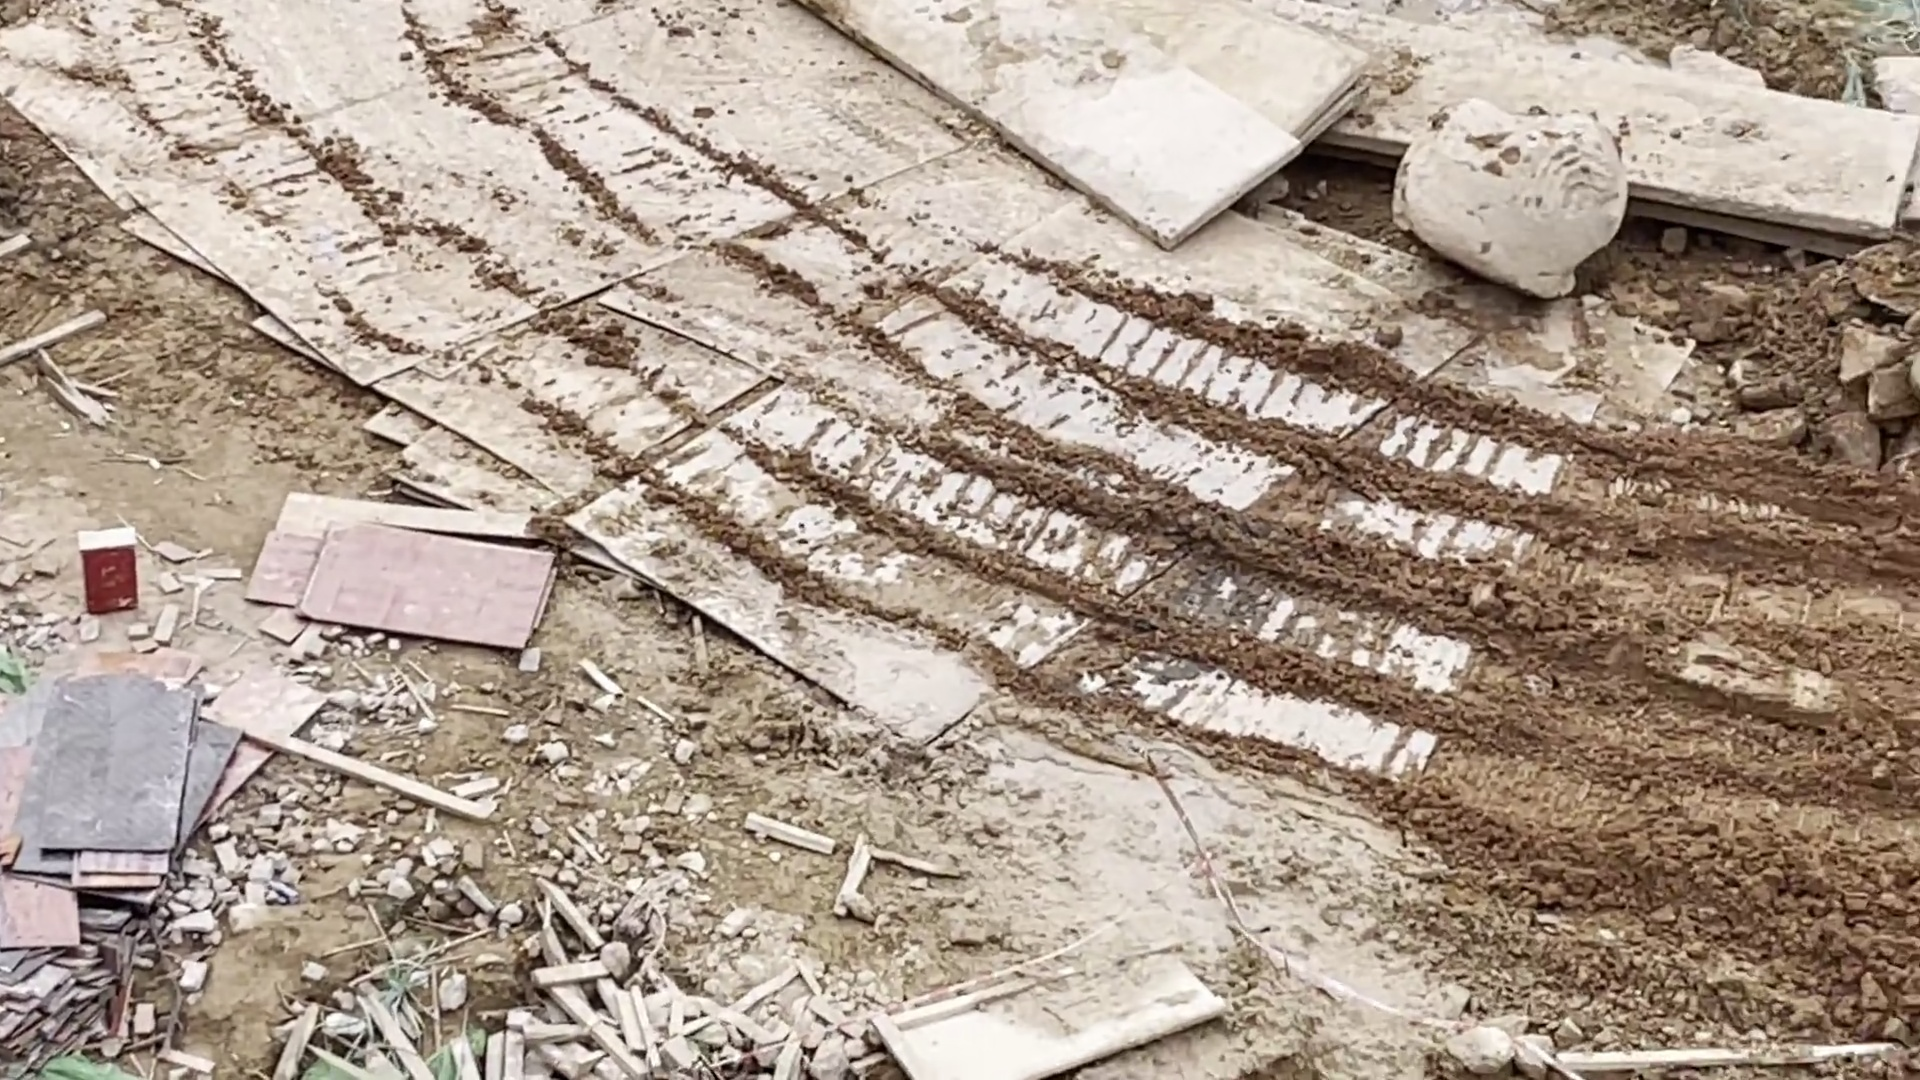board: (3, 655, 258, 1068)
